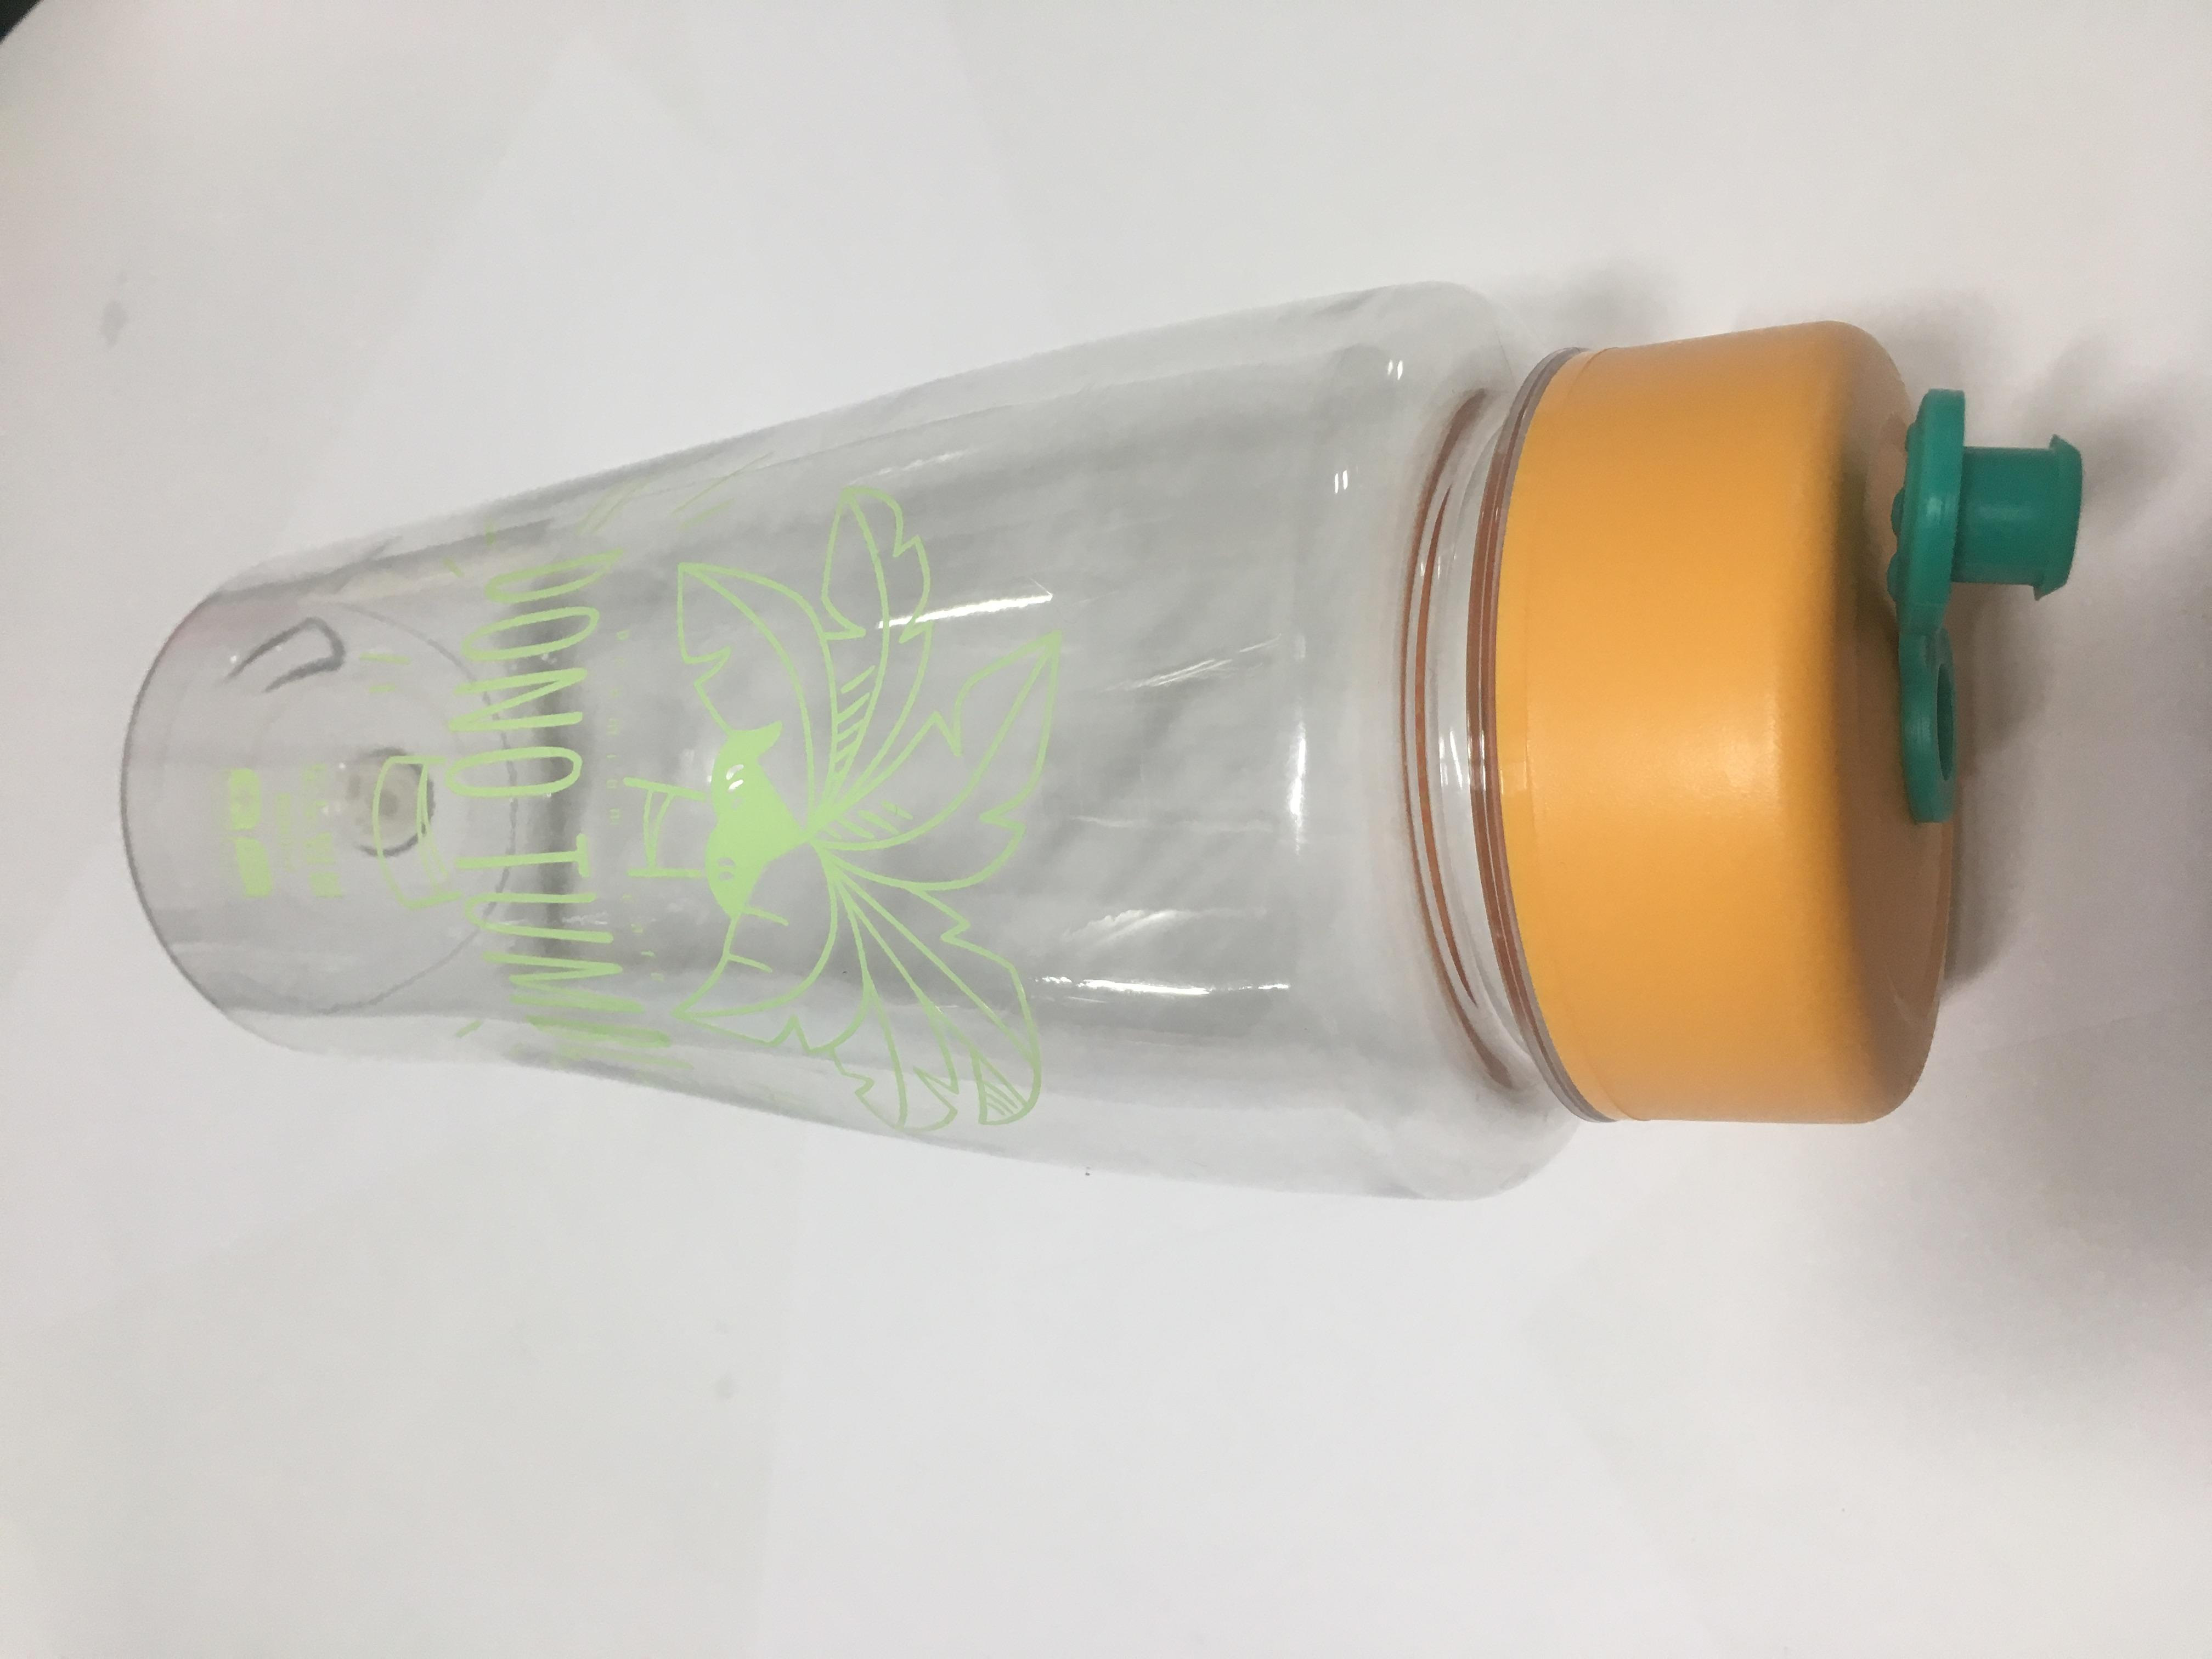bottle: (665, 586, 1858, 749)
